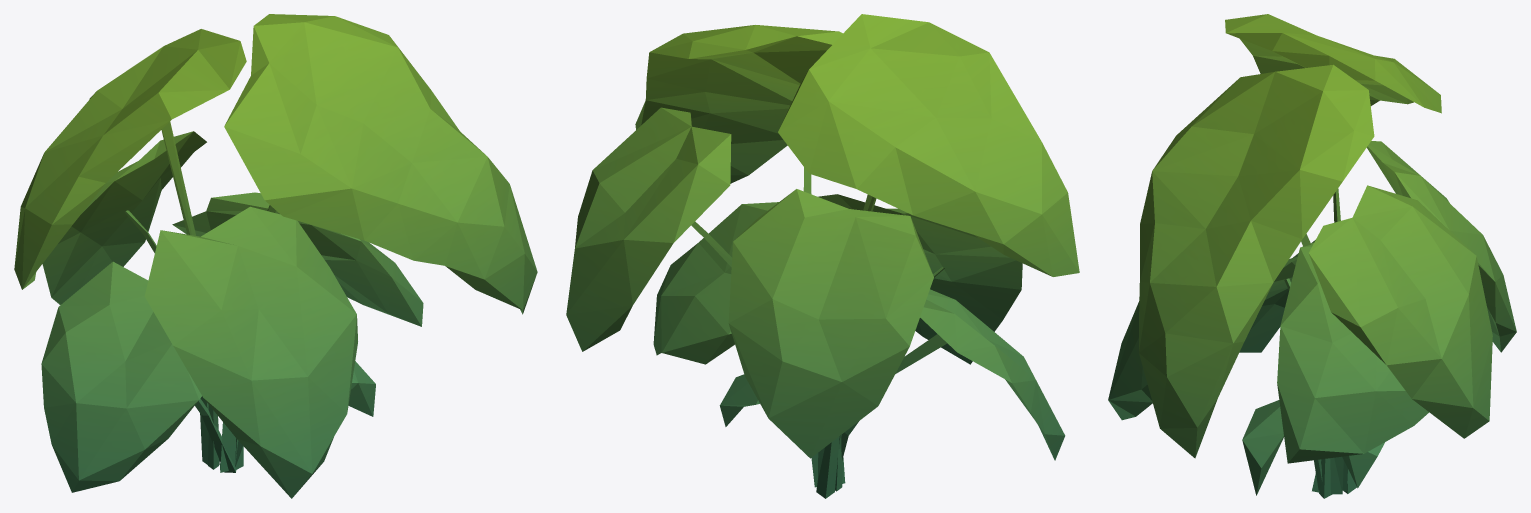
File: ZLP_Grass_D_3.FBX
3 renders of one model, left to right at view 1: azimuth 30°, elevation 25°; view 2: azimuth 150°, elevation 25°; view 3: azimuth 270°, elevation 25°, orthographic. The views are drawn at different scales.
Parts seen in each view (by area): view 1: ZLP_Grass_D_3; view 2: ZLP_Grass_D_3; view 3: ZLP_Grass_D_3.
Part boxes in pixels (bbox=[...]): ZLP_Grass_D_3: bbox=[14, 14, 537, 498]; ZLP_Grass_D_3: bbox=[566, 14, 1079, 498]; ZLP_Grass_D_3: bbox=[1108, 14, 1516, 498].
Bounding box in the file's own units: 145 × 132 × 107.
